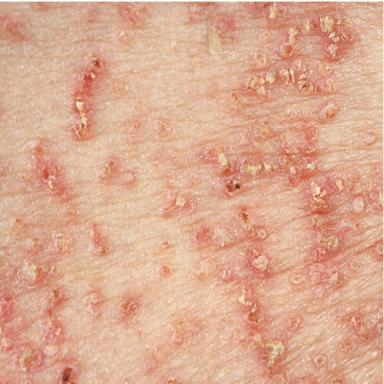Darier_s-Disease: (0, 0, 382, 381)
